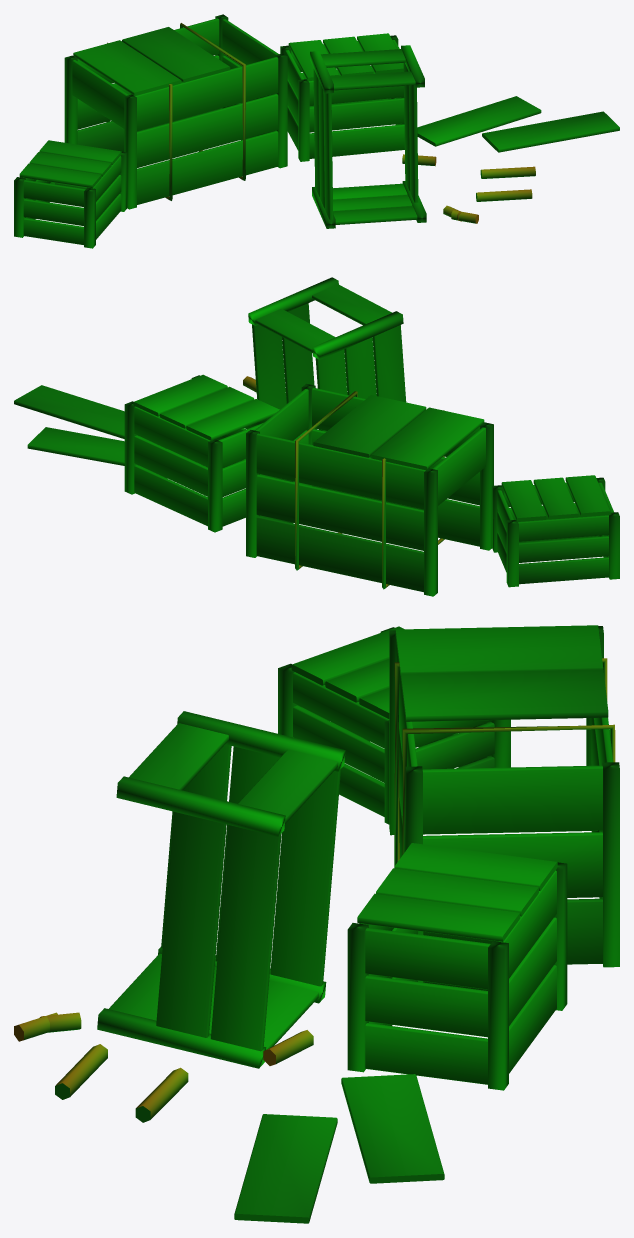
File: crate_stack_burned.glb
The picture shows the model from 3 angles, top to bottom: view 1: azimuth 30°, elevation 25°; view 2: azimuth 150°, elevation 25°; view 3: azimuth 270°, elevation 25°; orthographic projection. The views are drawn at different scales.
Parts seen in each view (by area): view 1: crate_stack_burned; view 2: crate_stack_burned; view 3: crate_stack_burned.
Part boxes in pixels (x1,y1,x2,y2): crate_stack_burned: (14, 14, 619, 248); crate_stack_burned: (14, 277, 619, 596); crate_stack_burned: (14, 625, 619, 1223).
Size of what is drawn, in the model's own units: 3.74 by 0.921 by 1.93.
